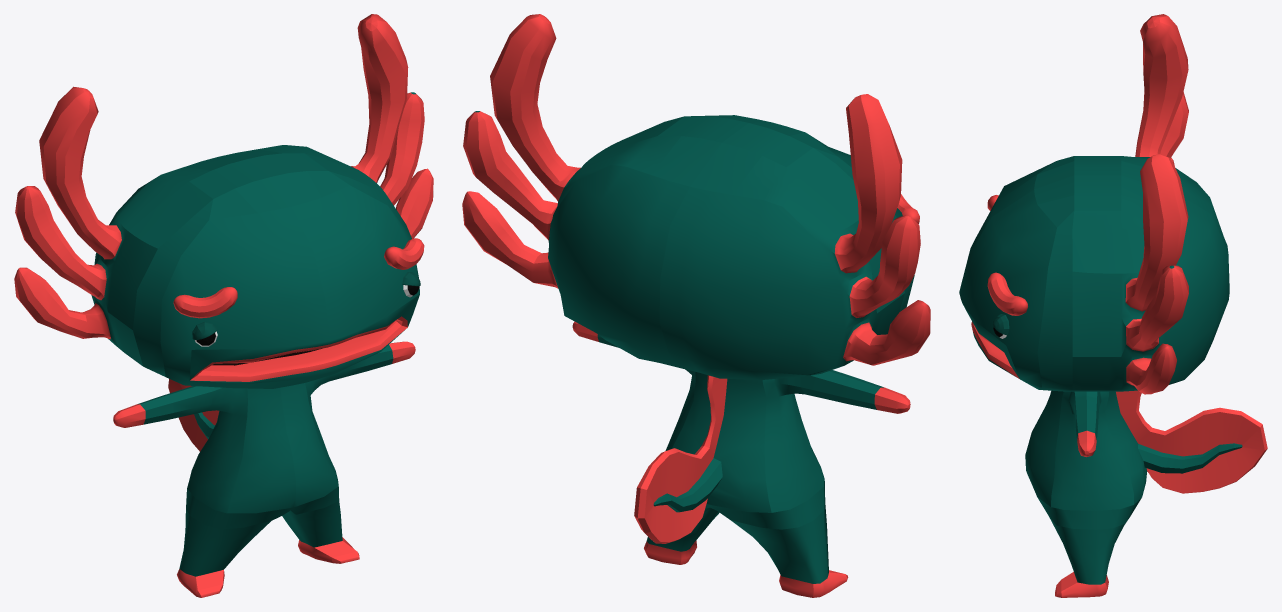
File: Sad.fbx
3 renders of one model, left to right at view 1: azimuth 30°, elevation 25°; view 2: azimuth 150°, elevation 25°; view 3: azimuth 270°, elevation 25°, orthographic. The views are drawn at different scales.
Visible parts, largest first — view 1: AXO_02, AXO_SAD_LEG_R, AXO_SAD_LEG_L, AXO_SAD_HAND_R, SAD_BROW_R, AXO_SAD_HAND_L, SAD_BROW_L; view 2: AXO_02, AXO_SAD_LEG_R, AXO_SAD_HAND_R, AXO_SAD_LEG_L; view 3: AXO_02, AXO_SAD_LEG_L, AXO_SAD_HAND_L, SAD_BROW_L.
Boxes of the visible parts, x1,y1,x2,y2 form: AXO_02: (14,14,433,529); AXO_SAD_LEG_R: (177,510,270,597); AXO_SAD_LEG_L: (282,501,359,563); AXO_SAD_HAND_R: (113,386,212,427); SAD_BROW_R: (173,287,237,318); AXO_SAD_HAND_L: (329,341,415,381); SAD_BROW_L: (384,238,424,269); AXO_02: (462,14,930,543); AXO_SAD_LEG_R: (731,502,848,597); AXO_SAD_HAND_R: (800,370,910,413); AXO_SAD_LEG_L: (644,508,719,564); AXO_02: (959,14,1267,529); AXO_SAD_LEG_L: (1049,517,1126,597); AXO_SAD_HAND_L: (1074,395,1098,456); SAD_BROW_L: (987,272,1027,315).
Size of the model in its own units: 19.06 by 21.3 by 12.57.
